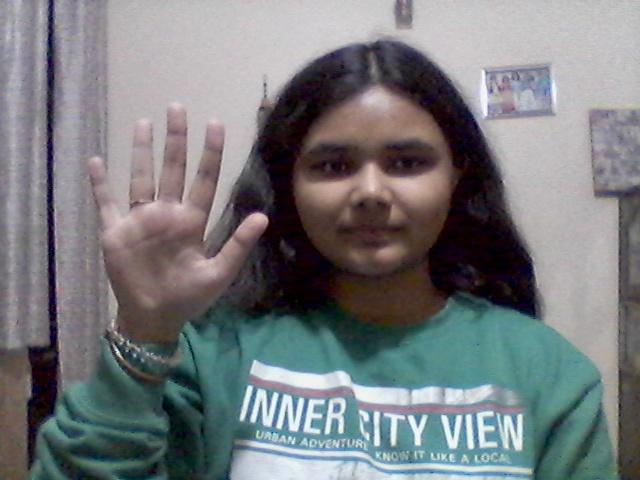hello: (79, 96, 274, 349)
